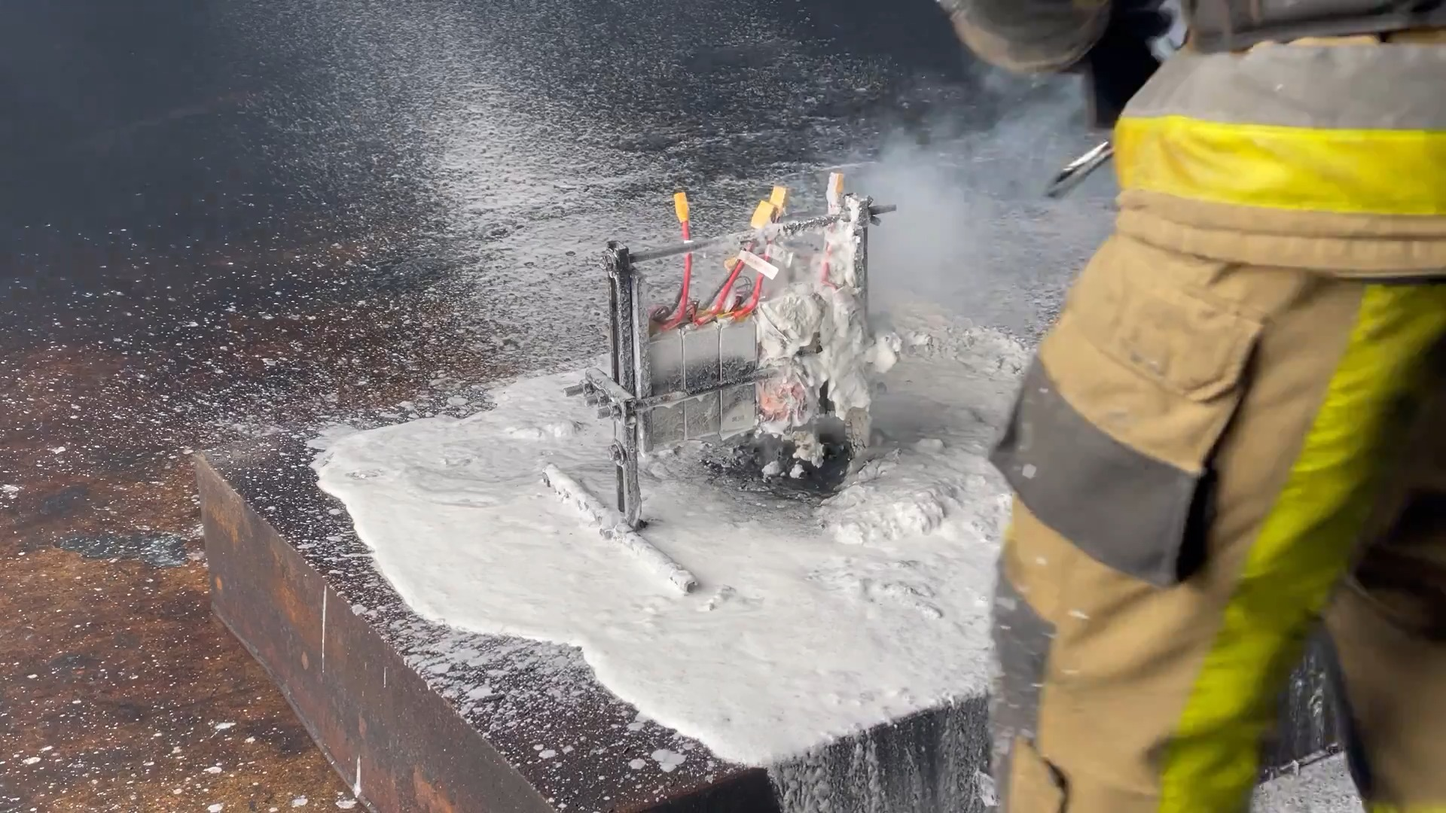smoke: (786, 53, 1109, 338)
